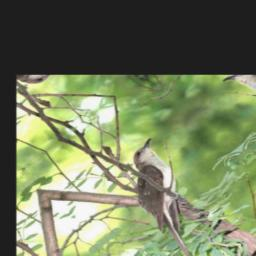Cuckoo: (86, 137, 256, 256)
